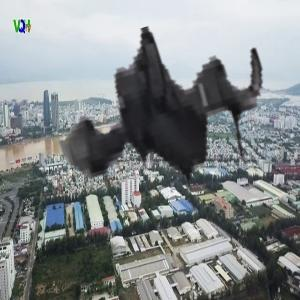drone: (48, 26, 296, 274)
